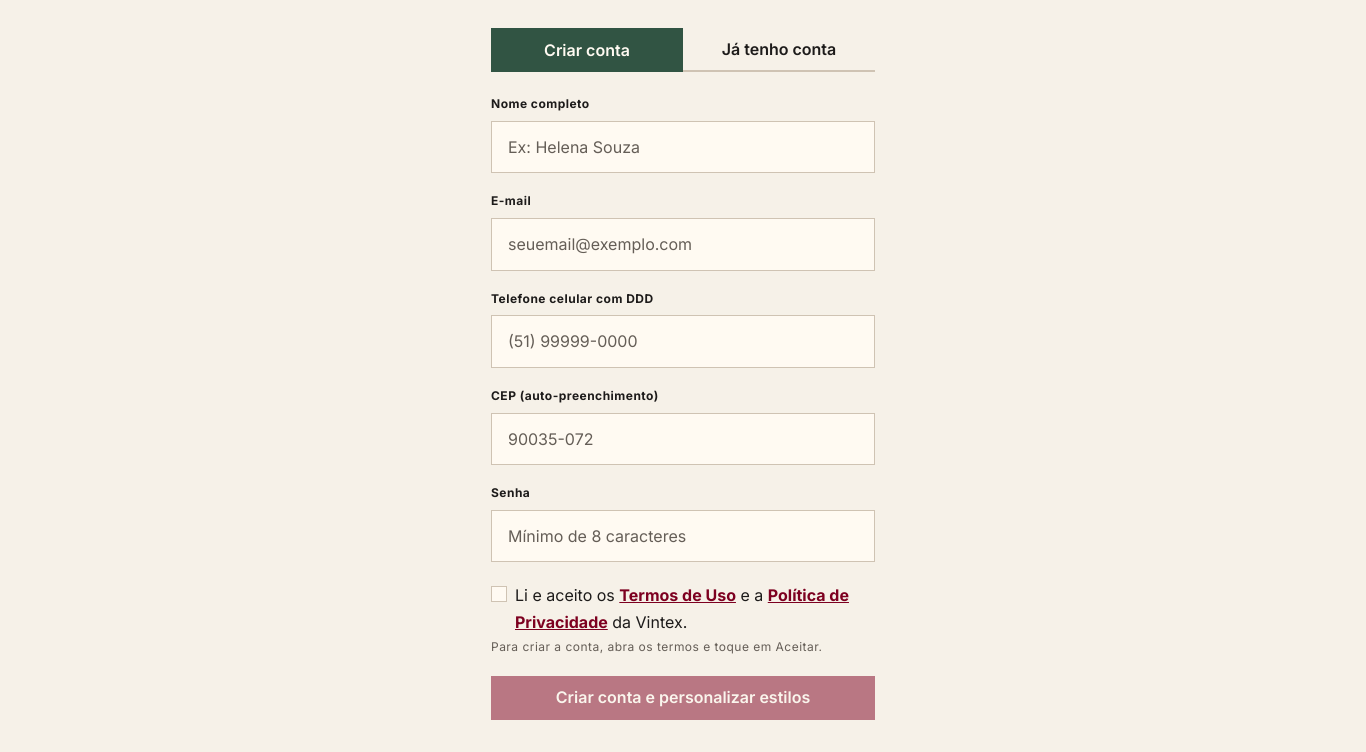
<Register /> › "Não aceitar" fecha o modal e mantém o checkbox desmarcado
(page scrolled)
Click the checkbox. click: (499, 594)
box: x1=491 y1=586 x2=507 y2=602
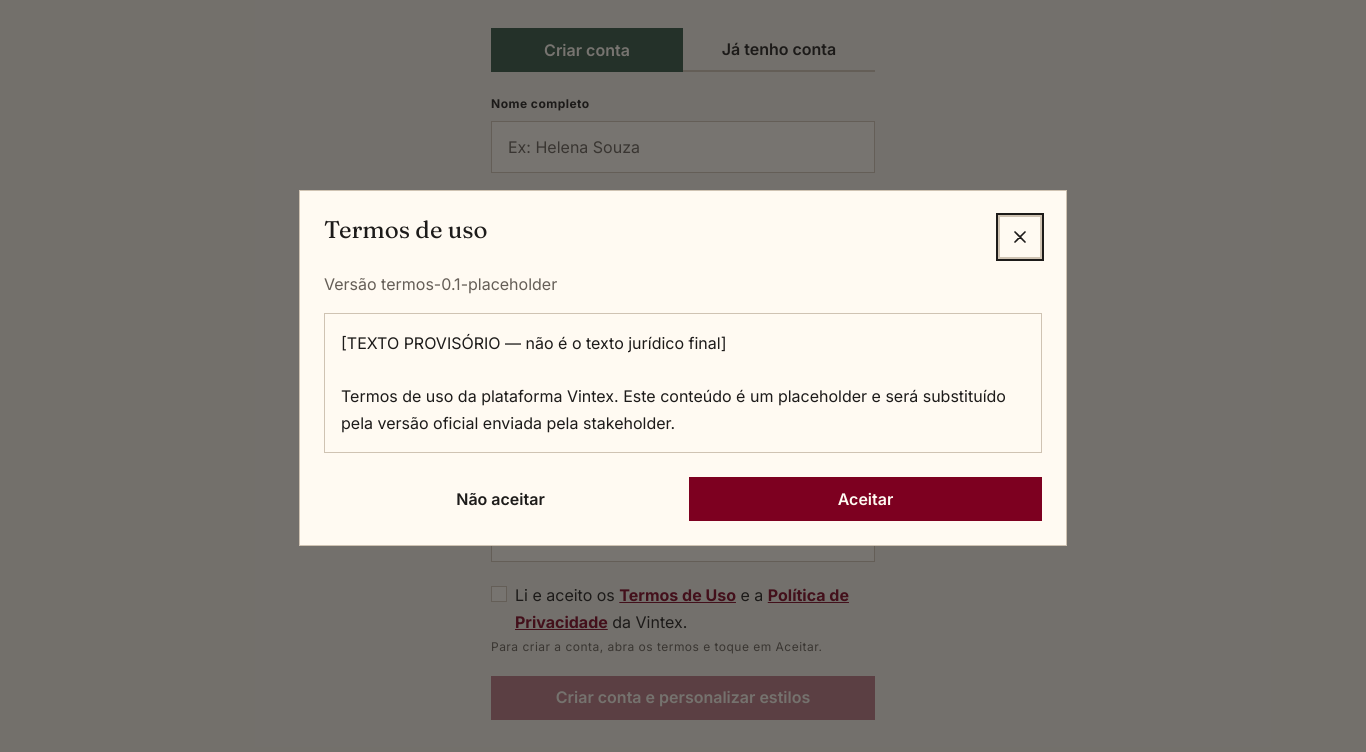
Click the button "Não aceitar". click: (500, 499)
box: x1=324 y1=477 x2=677 y2=521
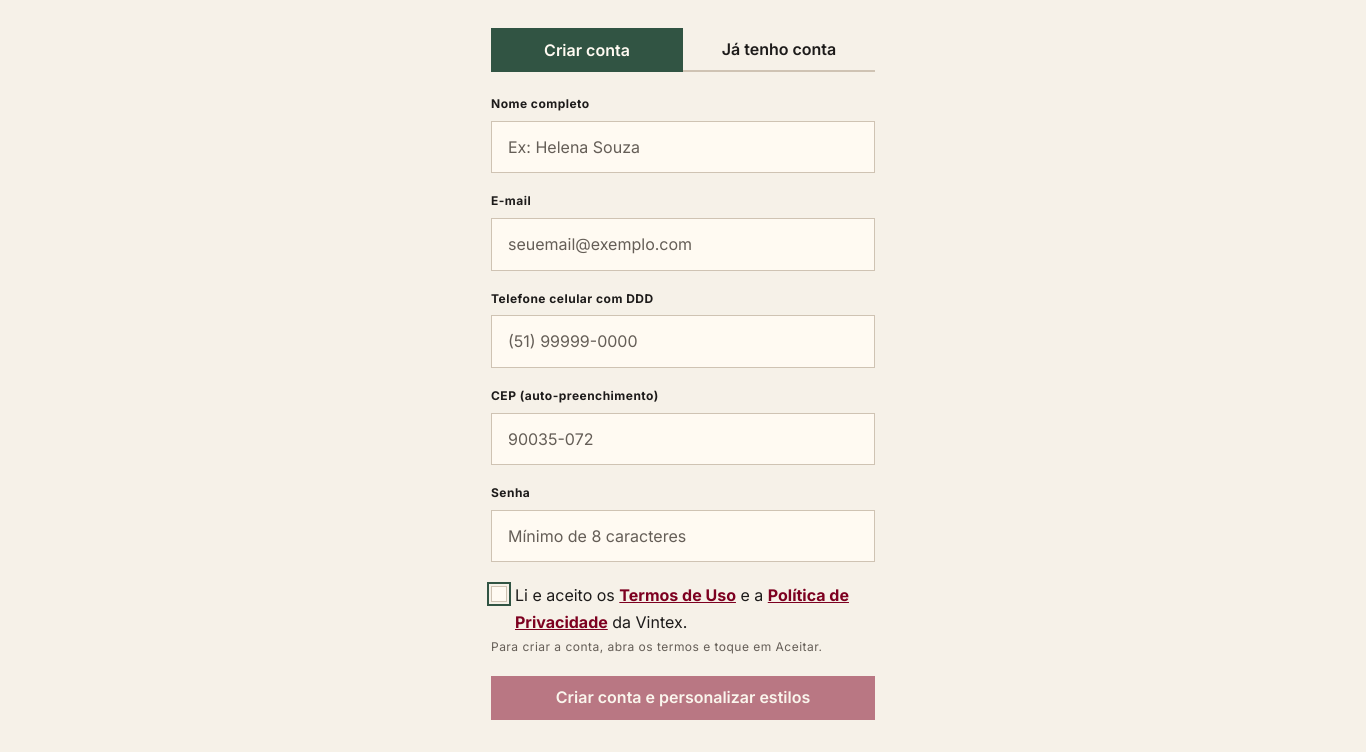
Check: the checkbox is not checked, box x1=491 y1=586 x2=507 y2=602
Check: the dialog is gone
